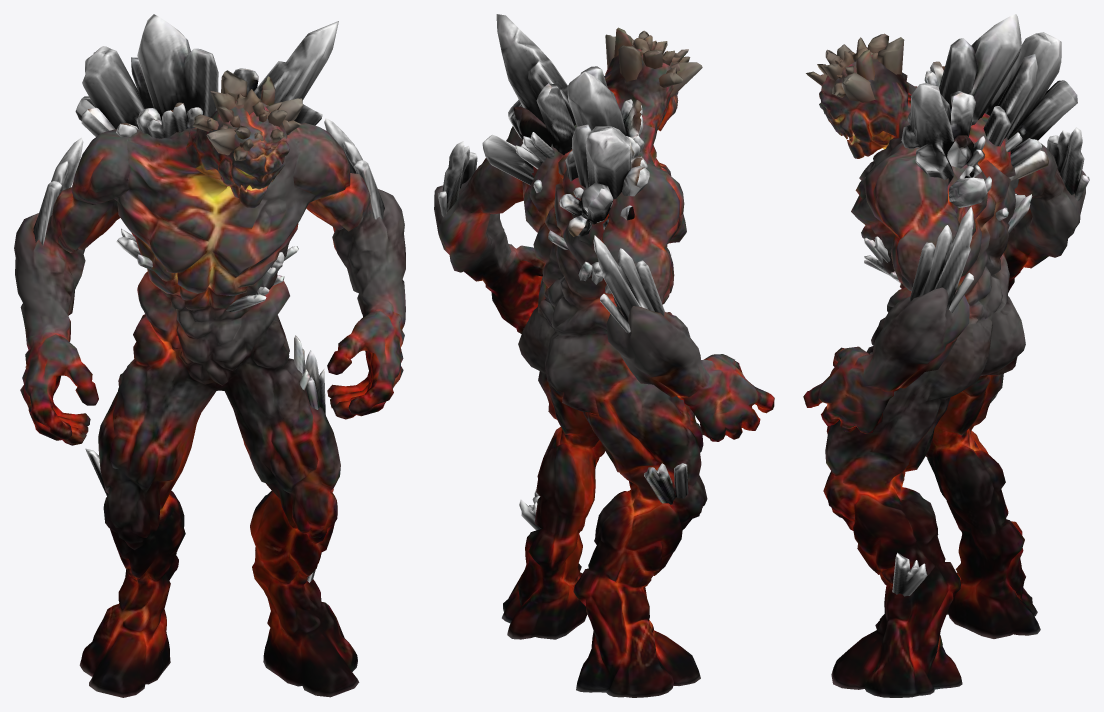
File: 138-titanatlantean.glb
3 renders of one model, left to right at view 1: azimuth 30°, elevation 25°; view 2: azimuth 150°, elevation 25°; view 3: azimuth 270°, elevation 25°, orthographic. The views are drawn at different scales.
Size of the model in its own units: 6.38 by 10.83 by 4.51.
1 material, 1 textured.
